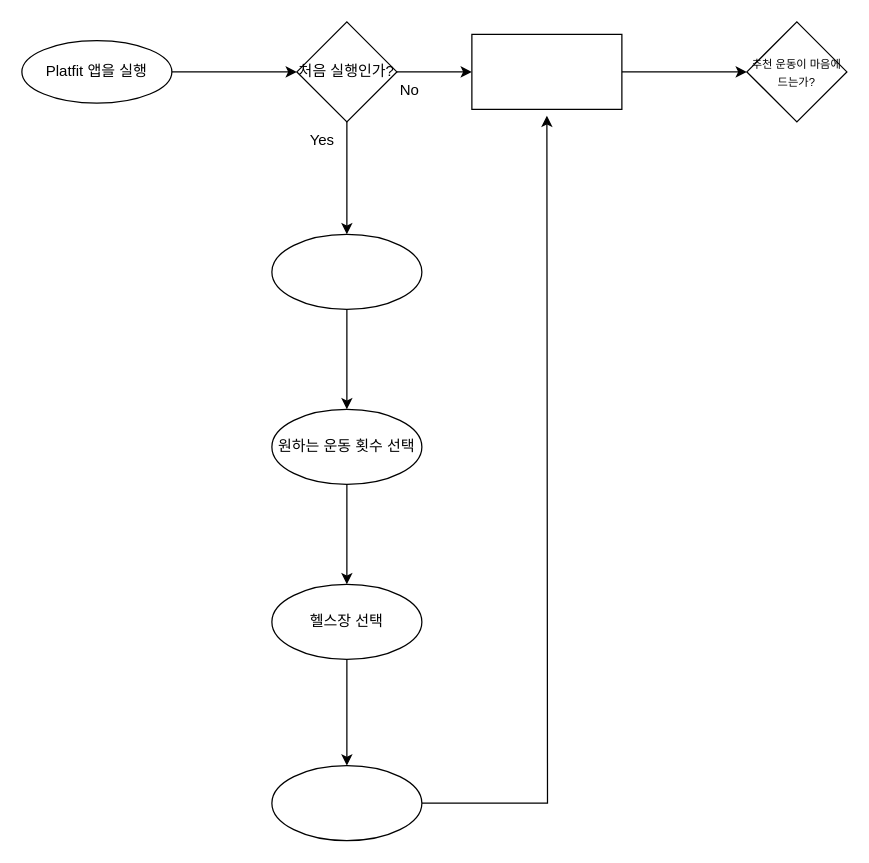
Image size: 869x863. Some labels were removed from this diagram. Each missing label, with the centre of its shape:
"운동 경력 선택" goes at (346,271).
"운동 메뉴" goes at (546,71).
"운동 목표 선택" goes at (346,802).
